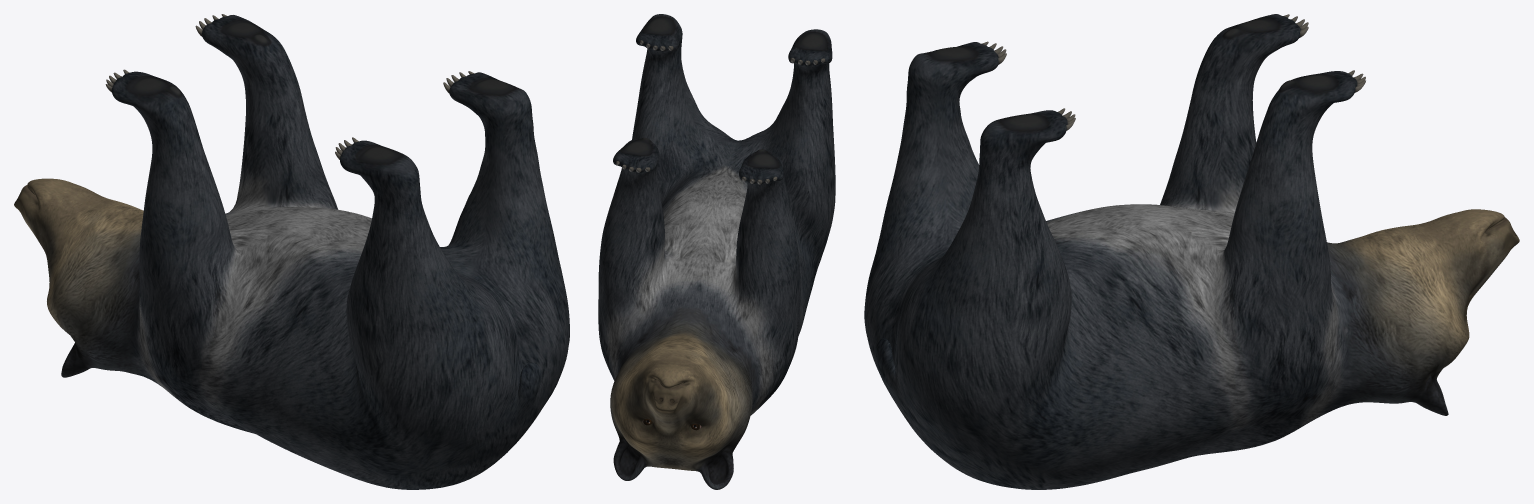
File: bear3.gltf
The picture shows the model from 3 angles, left to right: view 1: azimuth 30°, elevation 25°; view 2: azimuth 150°, elevation 25°; view 3: azimuth 270°, elevation 25°; orthographic projection. The views are drawn at different scales.
Parts seen in each view (by area): view 1: 13576_Tibetan_Bear_v1_l3.001; view 2: 13576_Tibetan_Bear_v1_l3.001; view 3: 13576_Tibetan_Bear_v1_l3.001.
Boxes of the visible parts, <box> form: 13576_Tibetan_Bear_v1_l3.001: <box>14,14,569,489</box>; 13576_Tibetan_Bear_v1_l3.001: <box>598,14,835,489</box>; 13576_Tibetan_Bear_v1_l3.001: <box>864,14,1519,489</box>.
Bounding box in the file's own units: 0.8211 × 0.9724 × 1.44.
1 material, 1 textured.
